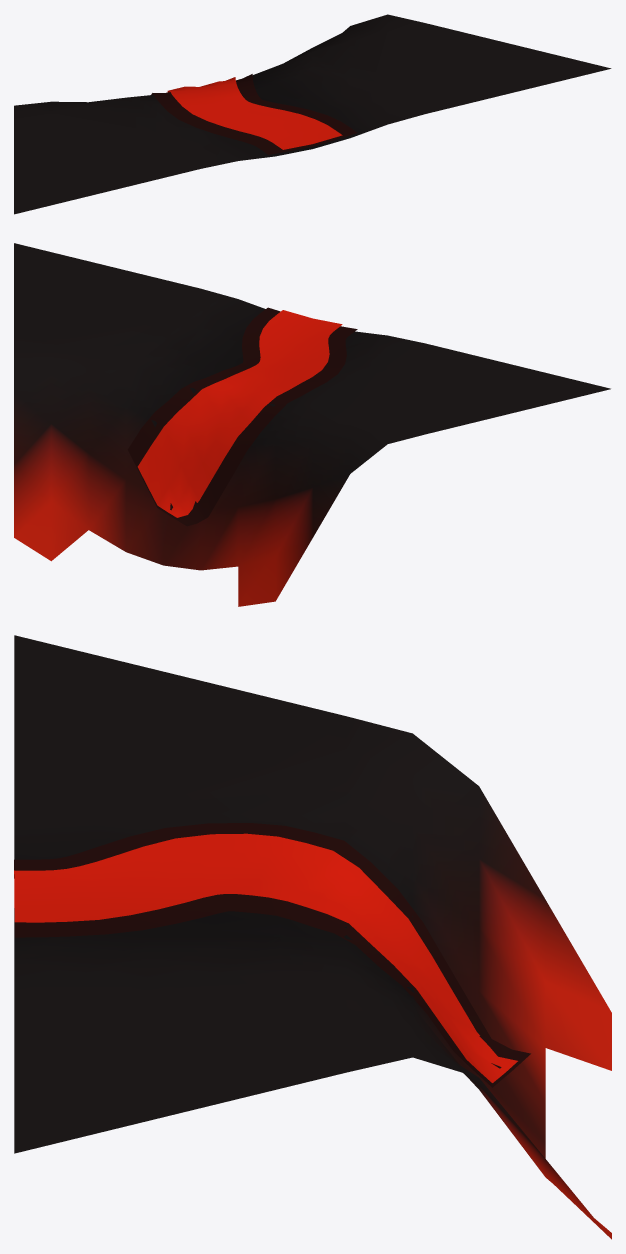
The model's file is MODULE_LAVA_RIVER_MOUTH.fbx.
The picture shows the model from 3 angles, top to bottom: view 1: azimuth 30°, elevation 25°; view 2: azimuth 150°, elevation 25°; view 3: azimuth 270°, elevation 25°; orthographic projection. The views are drawn at different scales.
Visible parts, largest first — view 1: MODULE_LAVA_RIVER_MOUTH__export, MODULE_LAVA_RIVER_MOUTH_DECOR__export; view 2: MODULE_LAVA_RIVER_MOUTH__export, MODULE_LAVA_RIVER_MOUTH_DECOR__export; view 3: MODULE_LAVA_RIVER_MOUTH__export, MODULE_LAVA_RIVER_MOUTH_DECOR__export.
Part boxes in pixels (<box>): MODULE_LAVA_RIVER_MOUTH__export: <box>14,14,611,214</box>; MODULE_LAVA_RIVER_MOUTH_DECOR__export: <box>151,74,357,154</box>; MODULE_LAVA_RIVER_MOUTH__export: <box>14,243,610,606</box>; MODULE_LAVA_RIVER_MOUTH_DECOR__export: <box>127,307,357,526</box>; MODULE_LAVA_RIVER_MOUTH__export: <box>14,635,611,1239</box>; MODULE_LAVA_RIVER_MOUTH_DECOR__export: <box>14,823,530,1087</box>.
Size of the model in its own units: 100 by 23.58 by 48.75.
